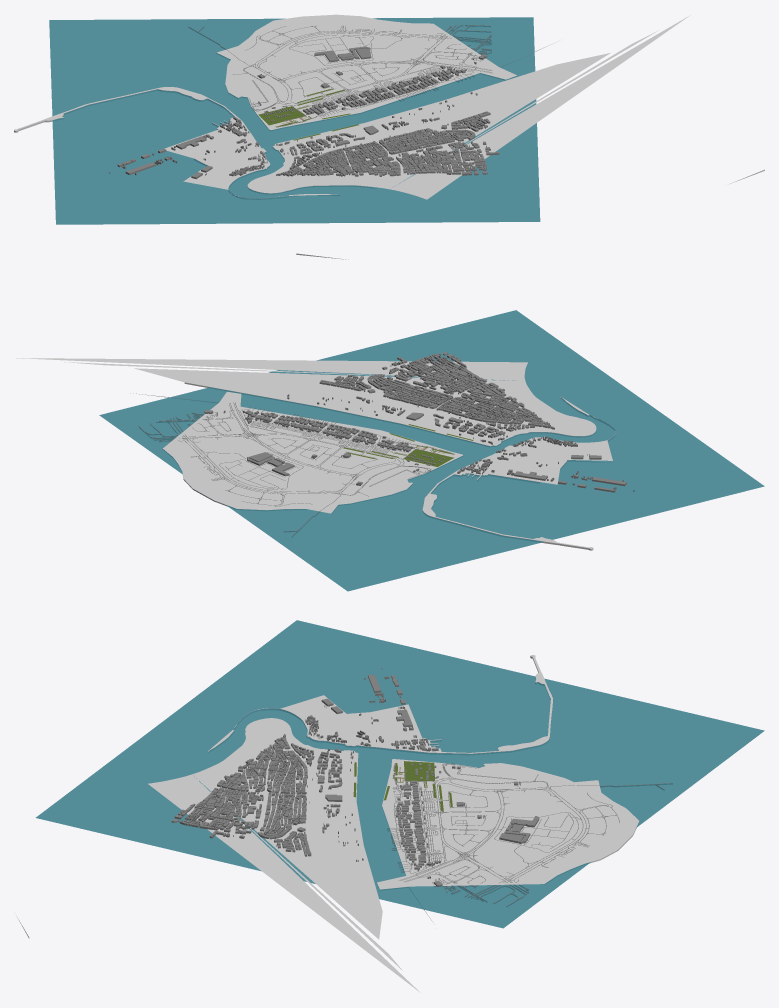
File: Azura_ground.glb
3 views of the same model, one above another, from view 1: azimuth 30°, elevation 25°; view 2: azimuth 150°, elevation 25°; view 3: azimuth 270°, elevation 25° (orthographic). The views are drawn at different scales.
Visible parts, largest first — view 1: water, land, Build, road, tree; view 2: water, land, Build, road, tree; view 3: water, land, Build, road, tree.
Part boxes in pixels (bbox=[...]): water: bbox=[49, 17, 540, 224]; land: bbox=[14, 14, 764, 199]; Build: bbox=[109, 46, 499, 179]; road: bbox=[188, 25, 492, 127]; tree: bbox=[258, 88, 358, 140]; water: bbox=[99, 310, 764, 591]; land: bbox=[16, 253, 616, 550]; Build: bbox=[204, 351, 634, 492]; road: bbox=[138, 402, 454, 536]; tree: bbox=[343, 424, 473, 466]; water: bbox=[35, 620, 764, 928]; land: bbox=[17, 655, 639, 992]; Build: bbox=[171, 668, 539, 886]; road: bbox=[387, 763, 672, 906]; tree: bbox=[353, 761, 452, 811].
Bounding box in the file's own units: 8875 × 62.57 × 7530.
Materials: 9 (1 with a texture image).
